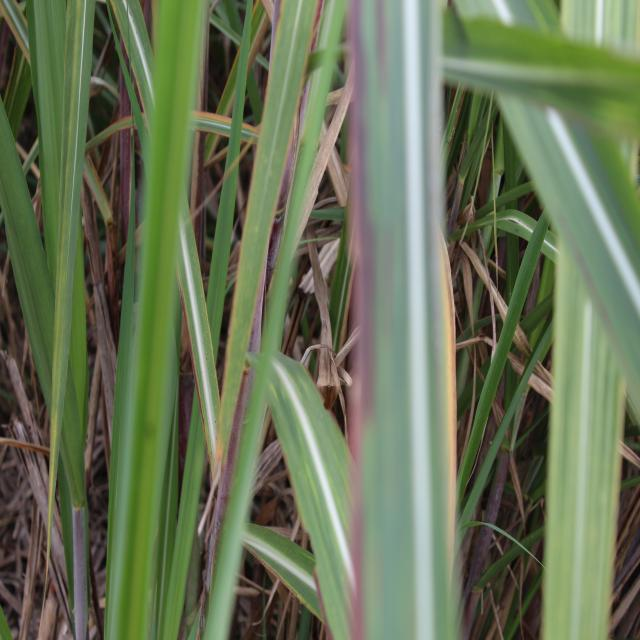Sugarcane: (102, 0, 210, 640), (347, 7, 448, 640), (165, 0, 262, 635), (21, 4, 98, 640), (254, 3, 347, 390), (456, 210, 554, 537), (542, 246, 622, 640), (252, 351, 356, 640), (443, 12, 640, 112), (0, 76, 61, 396), (137, 3, 206, 273), (161, 373, 211, 640), (174, 203, 221, 468), (18, 111, 118, 225), (297, 1, 350, 195), (207, 2, 266, 167), (326, 96, 360, 364), (446, 83, 496, 243), (104, 2, 157, 152), (239, 522, 323, 612), (498, 110, 530, 322), (449, 182, 542, 240), (459, 522, 549, 576), (2, 8, 34, 147), (489, 214, 555, 256), (80, 152, 114, 228), (243, 24, 264, 125), (84, 116, 133, 158), (208, 2, 246, 48)
